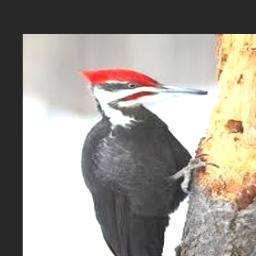Woodpecker: (82, 69, 219, 256)
